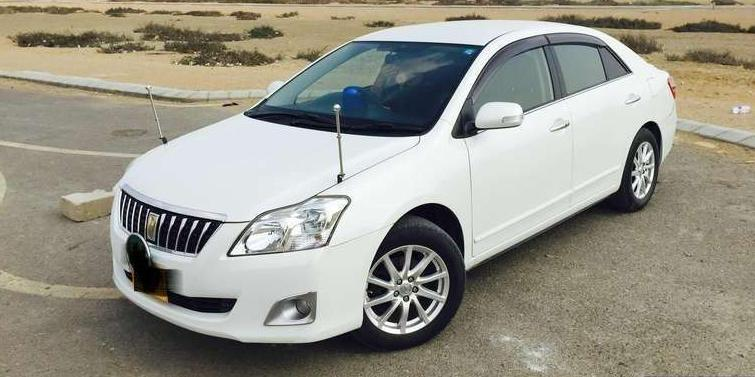Sedan: (100, 14, 682, 360)
